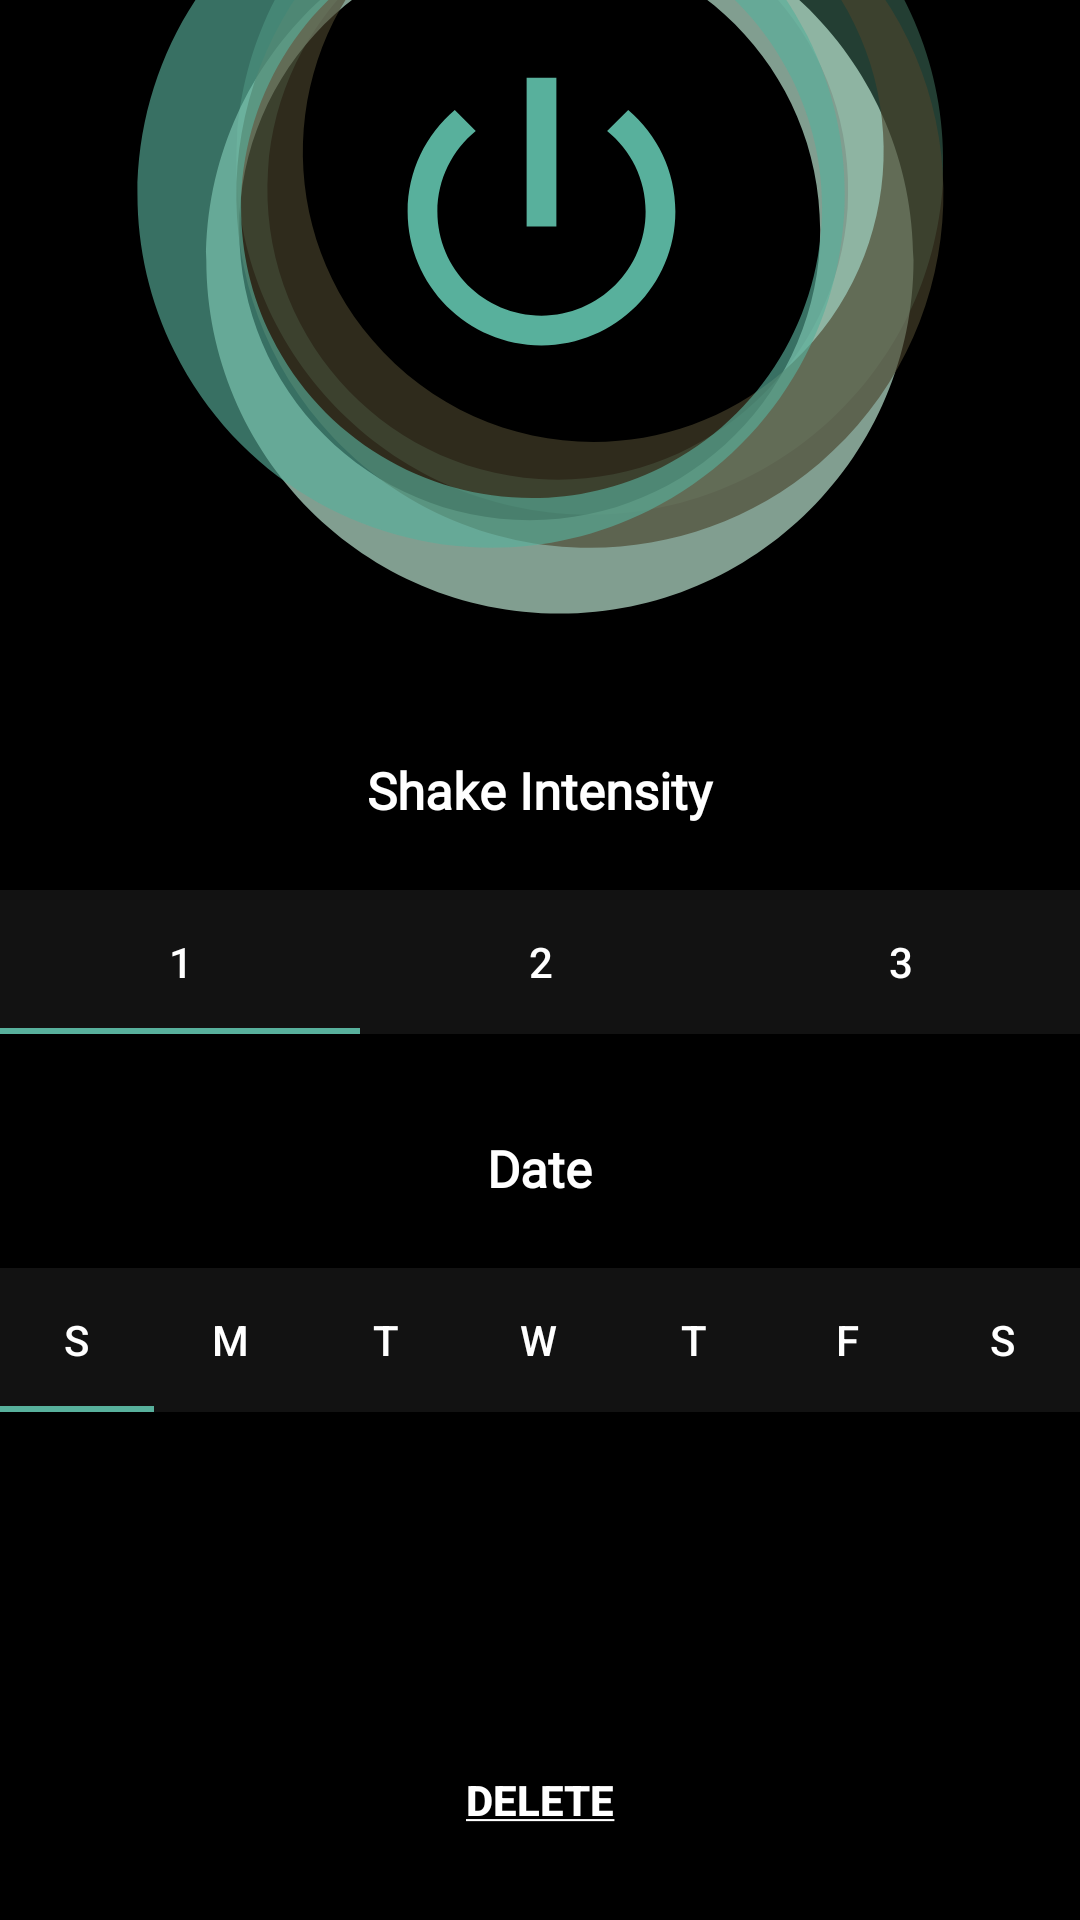

Named icons in this screenshot (1080x1920) and their centers, (x=x, y=y):
power settings: (x=541, y=211)
